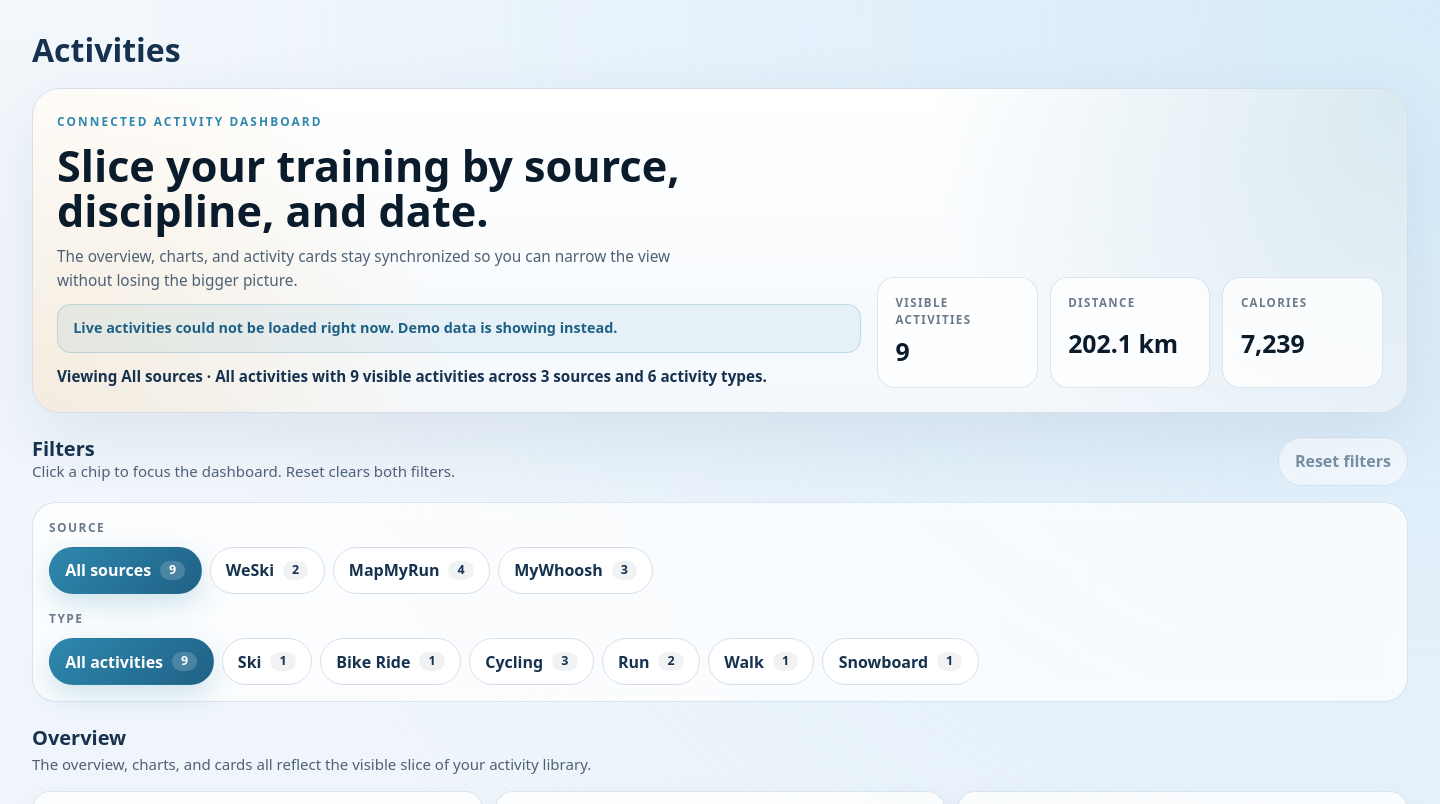
Activities page › filters the dashboard by source
Click the button with aria-label "filter by source mywhoosh": (576, 570) [498,547,653,594]
(page scrolled)
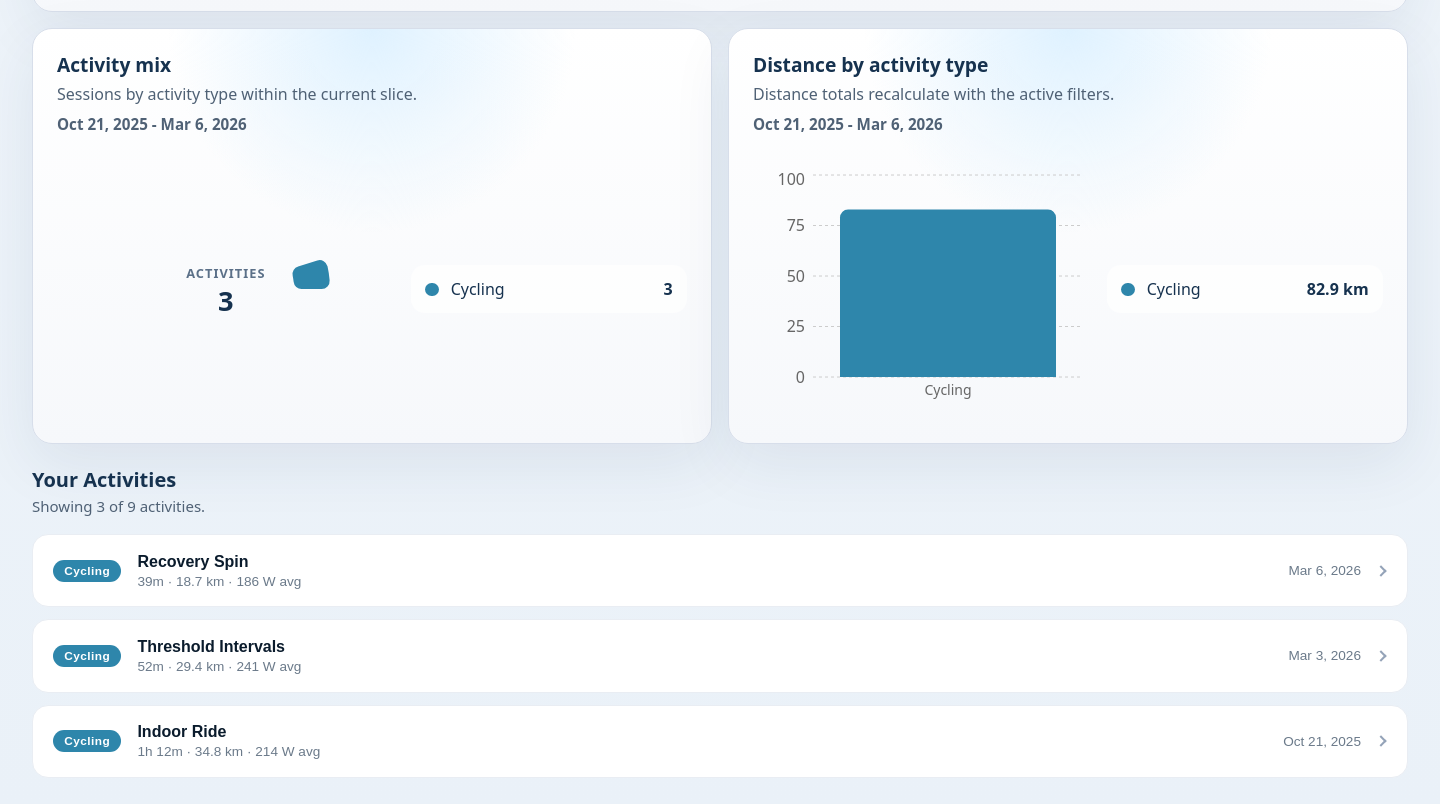
Expected: the text "Indoor Ride" is shown, [137,723,226,740]
Now the text "Showing 3 of 9 activities." is shown, box [32,496,205,516]
